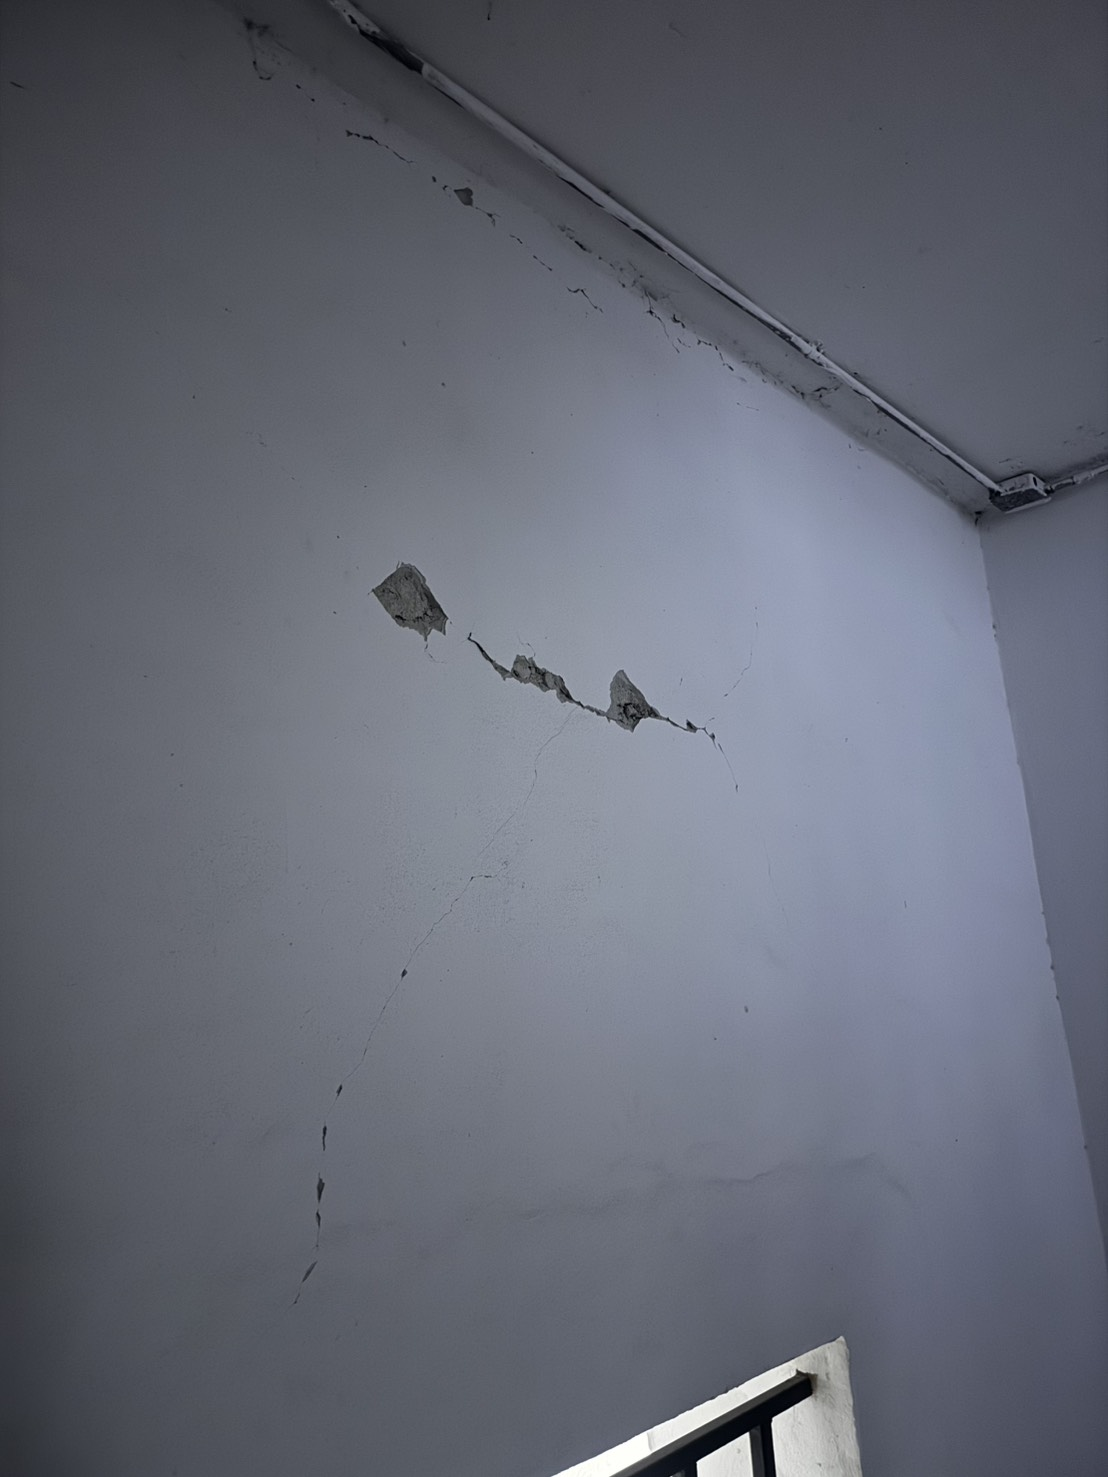Medium: (342, 516, 829, 816)
